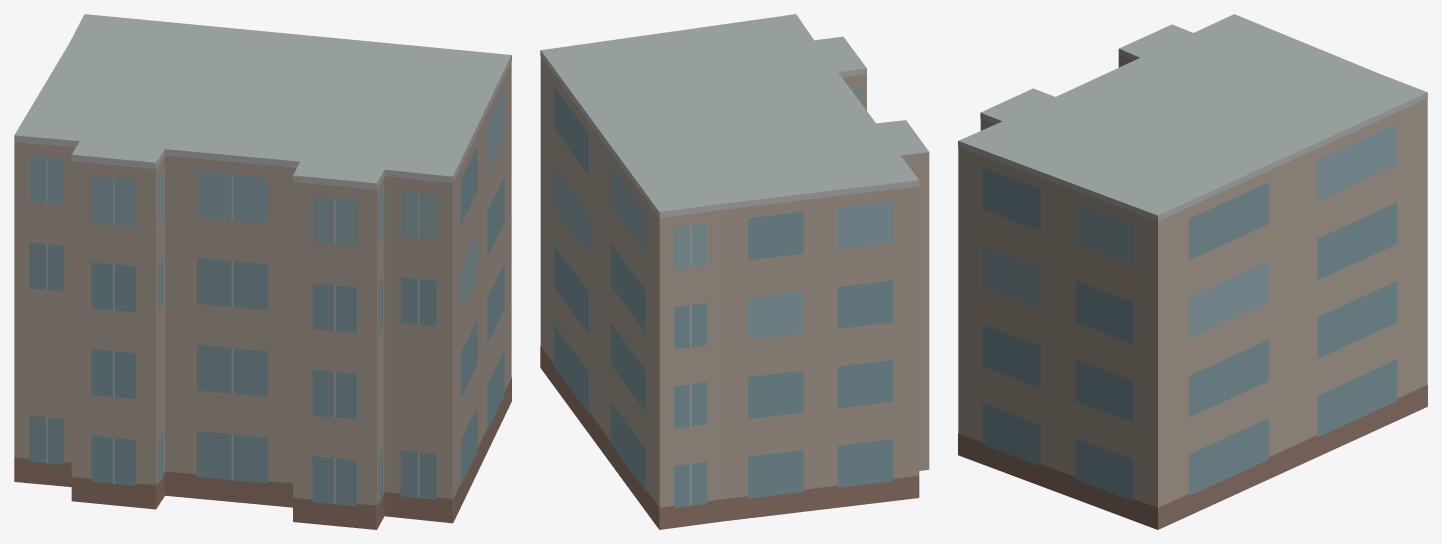
File: survey-upis-32698776.glb
The picture shows the model from 3 angles, left to right: view 1: azimuth 30°, elevation 25°; view 2: azimuth 150°, elevation 25°; view 3: azimuth 270°, elevation 25°; orthographic projection. The views are drawn at different scales.
Visible parts, largest first — view 1: survey-upis-32698776.tmp; view 2: survey-upis-32698776.tmp; view 3: survey-upis-32698776.tmp.
Part boxes in pixels (x1,y1,x2,y2): survey-upis-32698776.tmp: (14, 14, 511, 529); survey-upis-32698776.tmp: (540, 14, 929, 529); survey-upis-32698776.tmp: (958, 14, 1427, 529).
Bounding box in the file's own units: 17.61 × 12.8 × 17.34.
